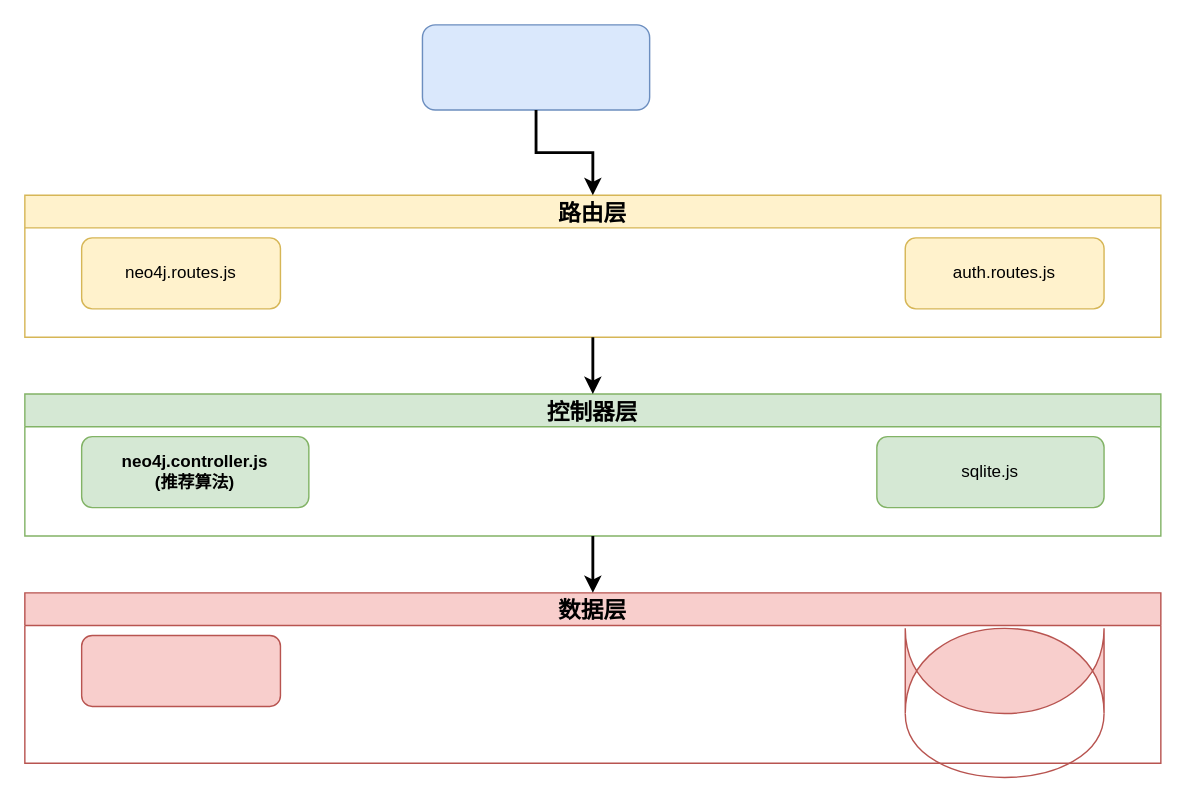
Image size: 1186x788. Some labels were removed from this diagram. The centre of each missing label's shape, as x and y in pixels:
app.js Express服务器: the point at 535,66
Neo4j Driver: the point at 180,670
SQLite 数据库: the point at 1004,670
